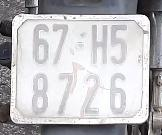2: (81, 70, 105, 117)
5: (111, 22, 133, 67)
6: (109, 70, 133, 116), (30, 23, 52, 66)
7: (56, 70, 75, 115), (51, 22, 69, 65)
8: (30, 71, 50, 115)
H: (90, 23, 111, 64)
